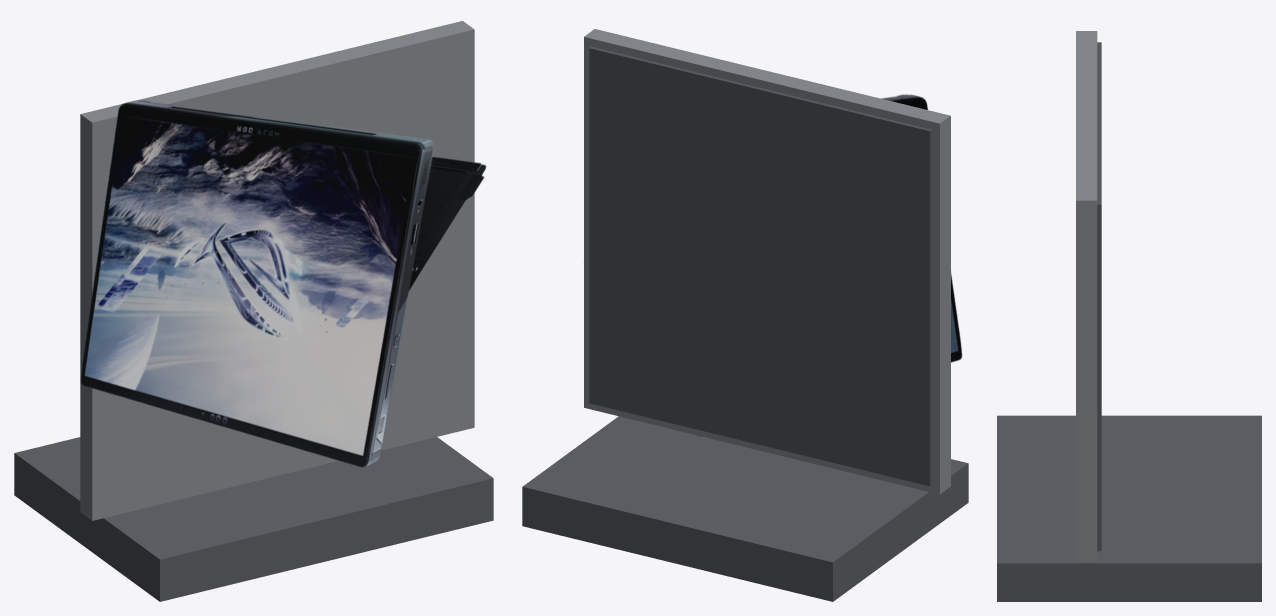
Rendered from rog-flow-z13-gz302.glb.
The picture shows the model from 3 angles, left to right: view 1: azimuth 30°, elevation 25°; view 2: azimuth 150°, elevation 25°; view 3: azimuth 270°, elevation 25°; orthographic projection. The views are drawn at different scales.
Parts seen in each view (by area): view 1: product_image, body, base; view 2: rear, base, body, product_image; view 3: base, body, rear.
Part boxes in pixels (box(x1,y1,x2,y2)): product_image: box(80, 100, 486, 467); body: box(80, 21, 474, 520); base: box(14, 437, 493, 601); rear: box(589, 46, 932, 486); base: box(522, 416, 968, 601); body: box(584, 29, 950, 494); product_image: box(698, 94, 962, 436); base: box(997, 415, 1261, 601); body: box(1076, 31, 1097, 562); rear: box(1097, 42, 1101, 551).
Size of the model in its own units: 2 by 2.19 by 1.24.
1 material, 1 textured.
